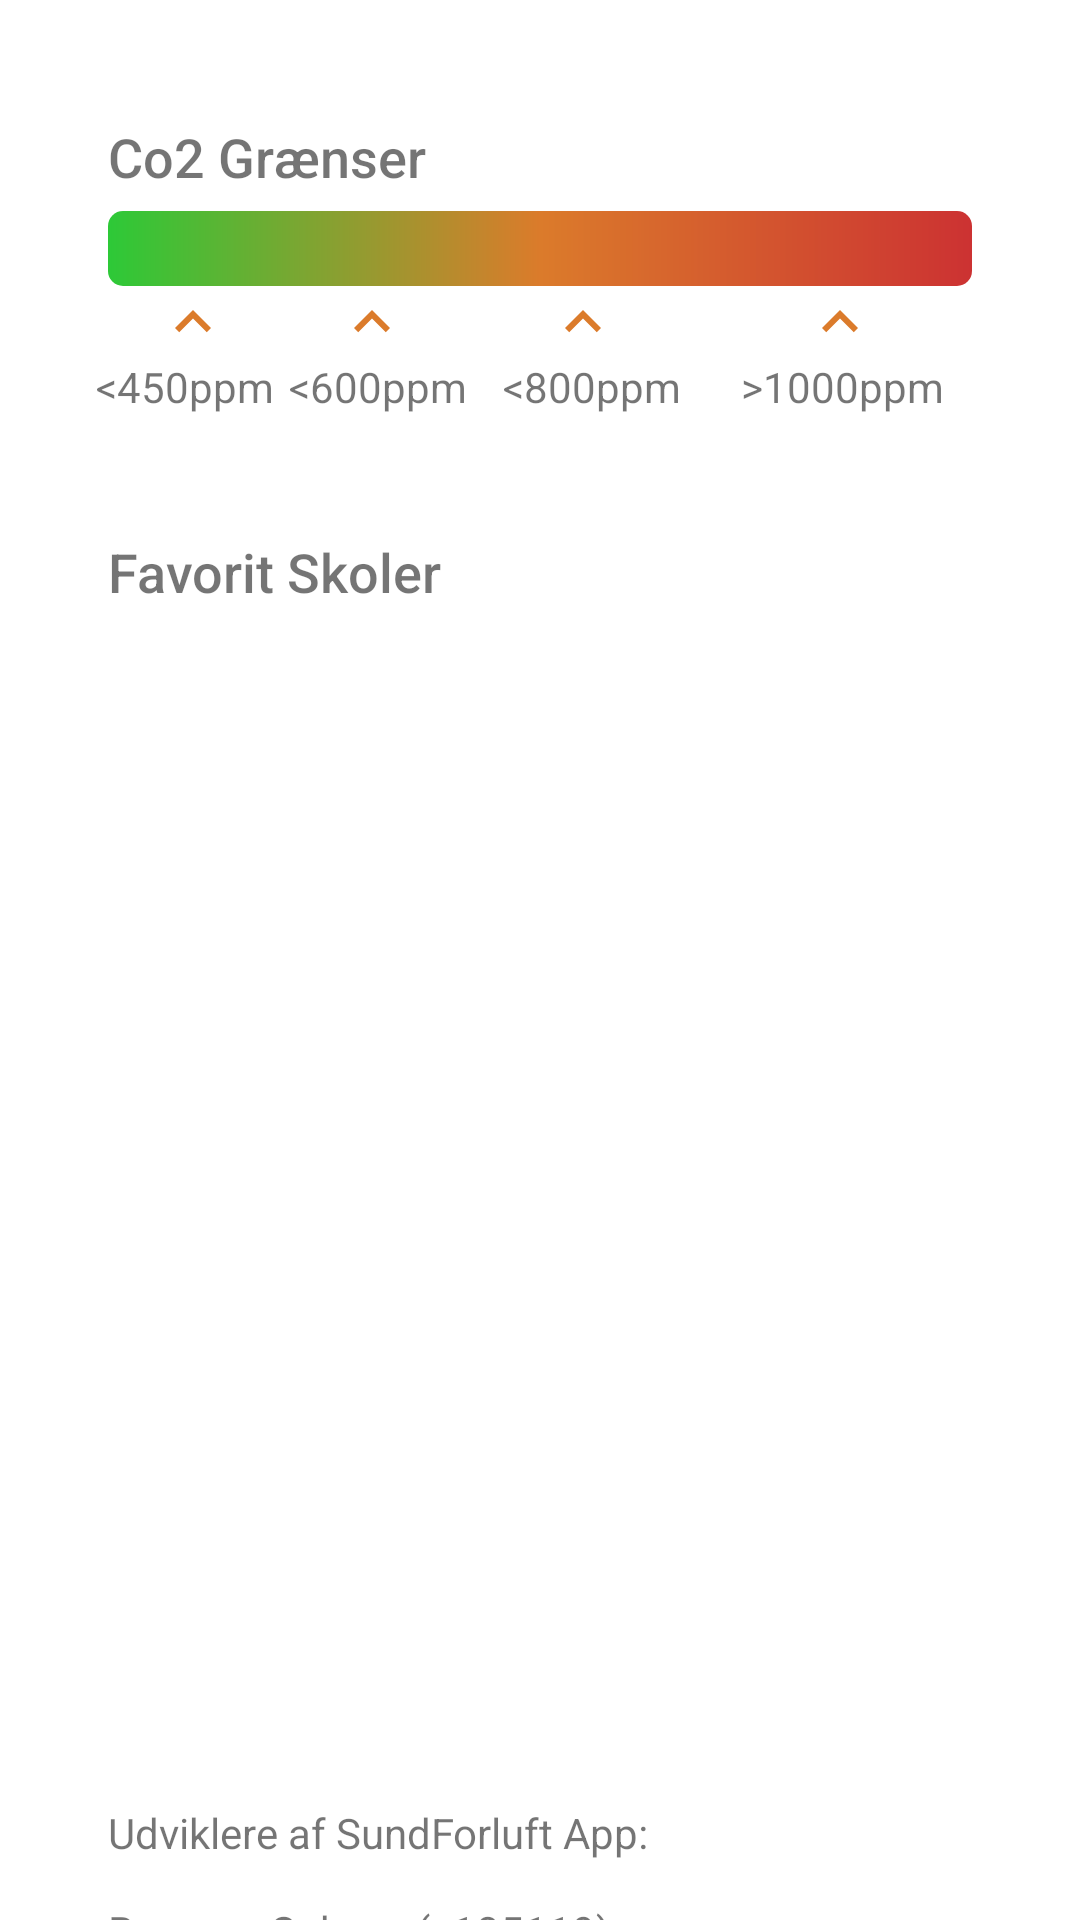

Icons on this 1080×1920 Android screen, each with the point to tap as (x,y):
arrow: (193,321), (372,321), (583,321), (840,321)
